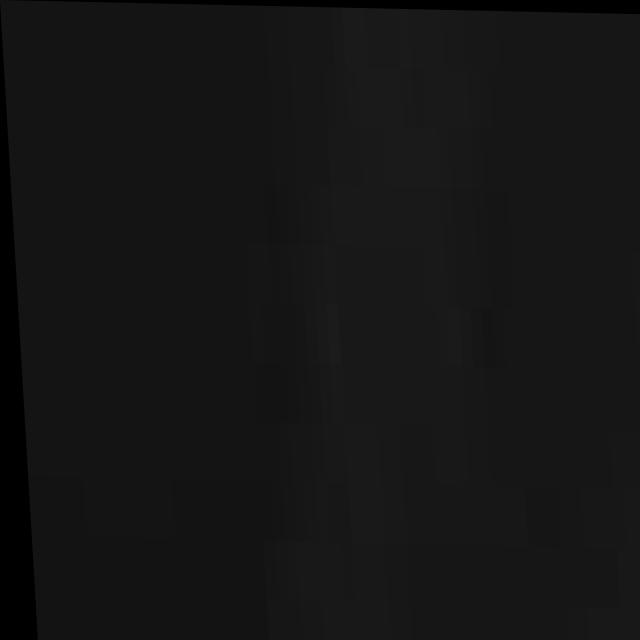fracture: (16, 1, 640, 640)
